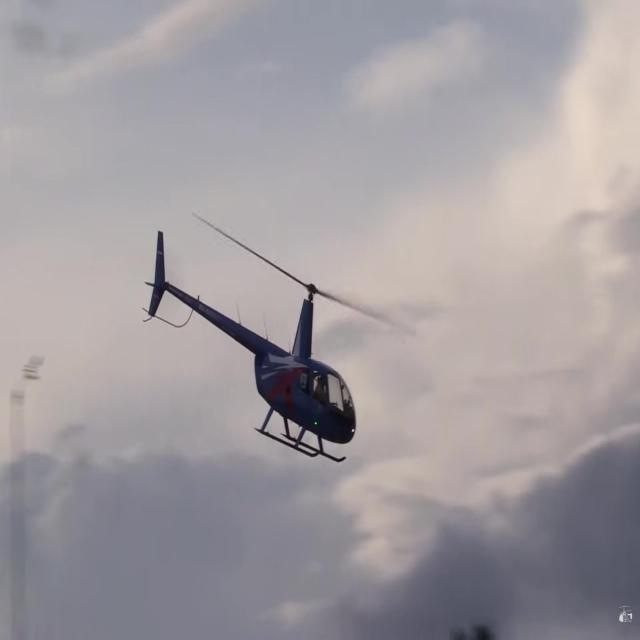CIV_HELO: (146, 229, 360, 464)
